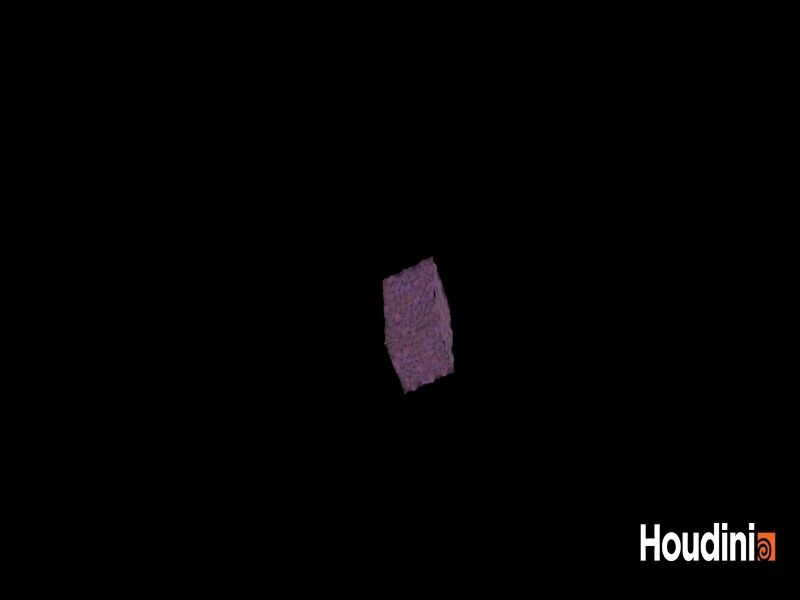waste: (372, 245, 468, 405)
